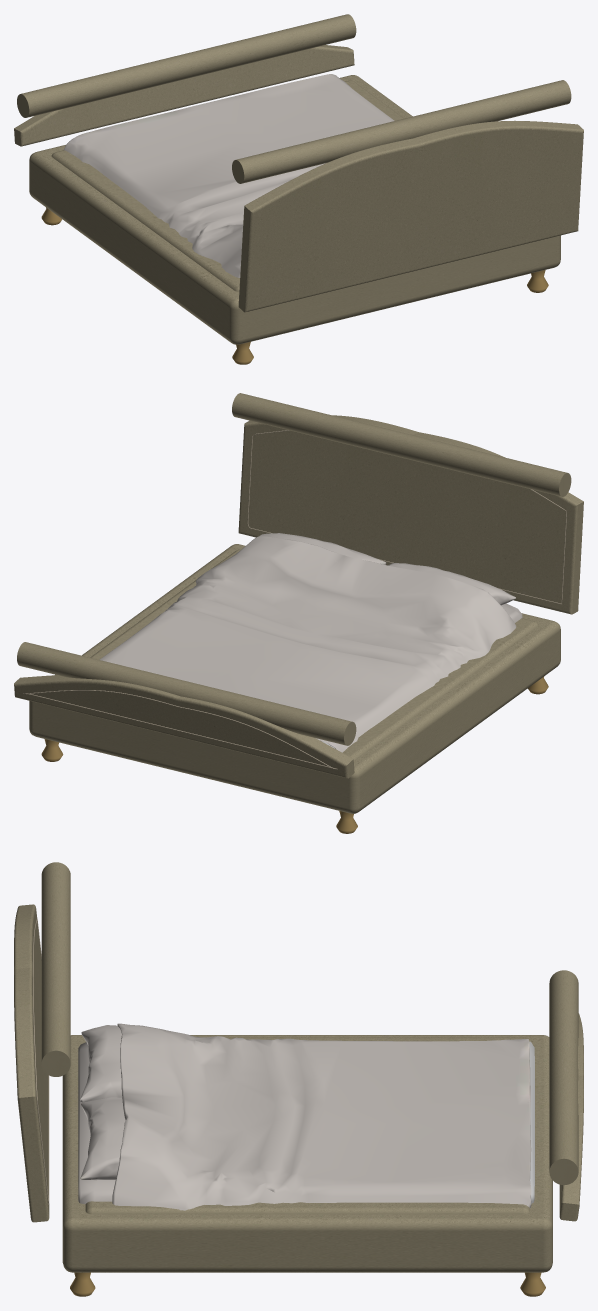
The model's file is luxury-arch-bed.glb.
The picture shows the model from 3 angles, top to bottom: view 1: azimuth 30°, elevation 25°; view 2: azimuth 150°, elevation 25°; view 3: azimuth 270°, elevation 25°; orthographic projection. The views are drawn at different scales.
Visible parts, largest first — view 1: linen_0, heritage_linen_2, bronze_3; view 2: linen_0, heritage_linen_2, attached_sleigh_end_seam, bronze_3; view 3: heritage_linen_2, linen_0, bronze_3, attached_sleigh_end_seam.
Part boxes in pixels (left/top/right/bottom): linen_0: left=14, top=14, right=583, bottom=344; heritage_linen_2: left=64, top=74, right=394, bottom=277; bronze_3: left=41, top=207, right=548, bottom=364; linen_0: left=14, top=393, right=583, bottom=813; heritage_linen_2: left=99, top=533, right=522, bottom=752; attached_sleigh_end_seam: left=23, top=430, right=566, bottom=769; bronze_3: left=41, top=676, right=548, bottom=833; heritage_linen_2: left=78, top=1023, right=534, bottom=1210; linen_0: left=14, top=862, right=583, bottom=1272; bronze_3: left=70, top=1272, right=545, bottom=1296; attached_sleigh_end_seam: left=33, top=919, right=582, bottom=1206.
Bounding box in the file's own units: 2.06 × 1.26 × 2.58.
4 materials, 2 textured.
